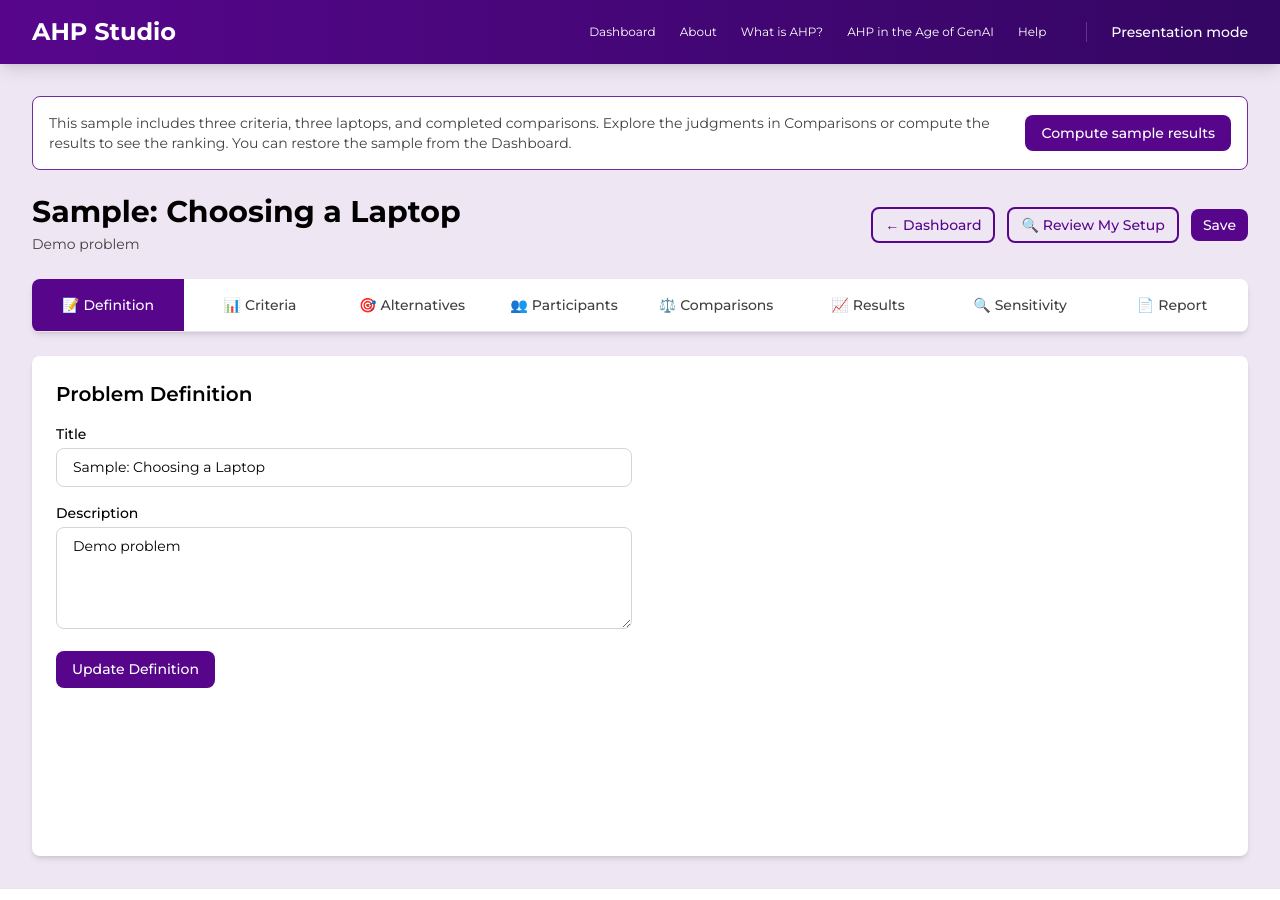
the Participants tab loads the preloaded presenter
Check: the field showing "Sample: Choosing a Laptop" is shown, box [56,448,632,487]
Click the button "👥Participants". click: (564, 305)
box: [488,279,640,331]
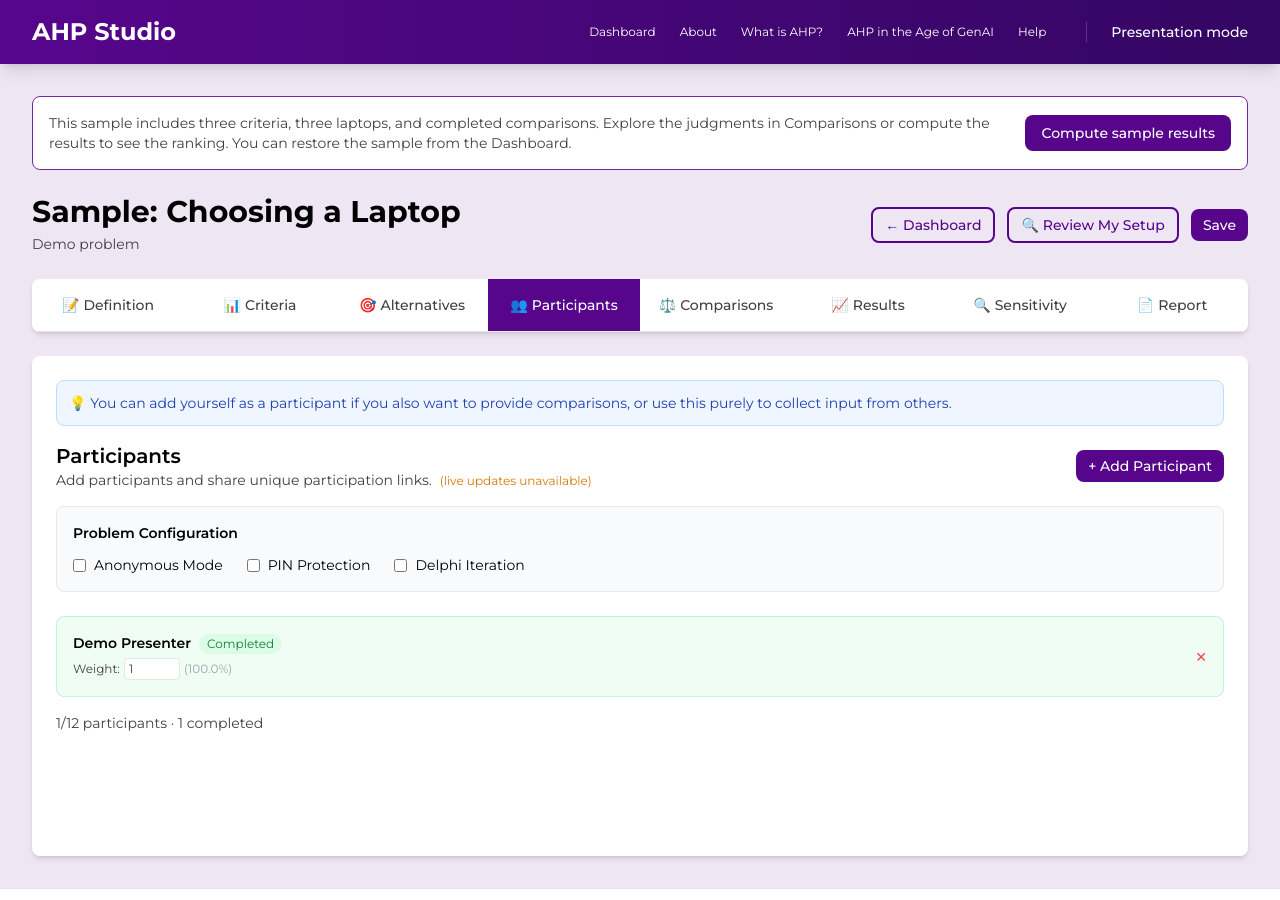
Check: the text "Demo Presenter" is shown, box [73,633,191,654]
